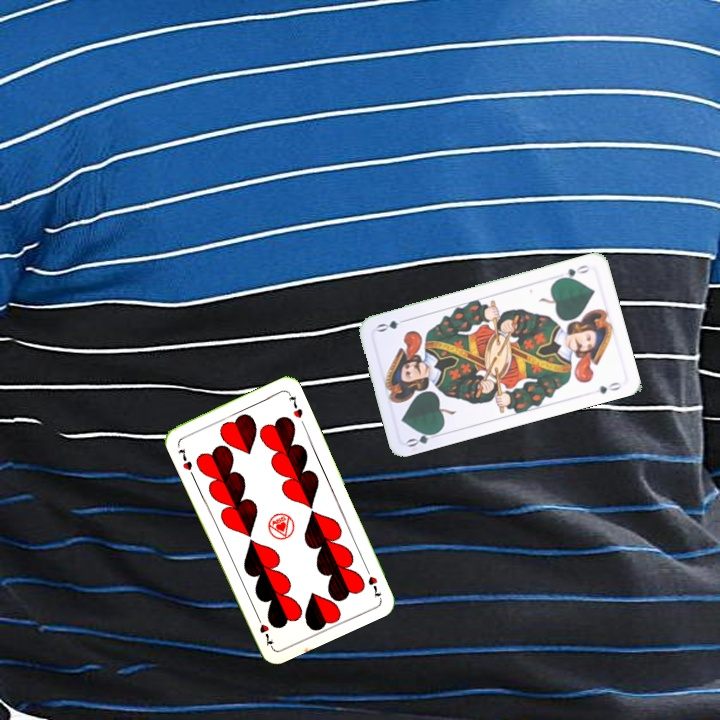GO: (403, 427, 443, 450), (554, 261, 592, 282)
H7: (361, 562, 383, 600), (174, 444, 195, 473)
